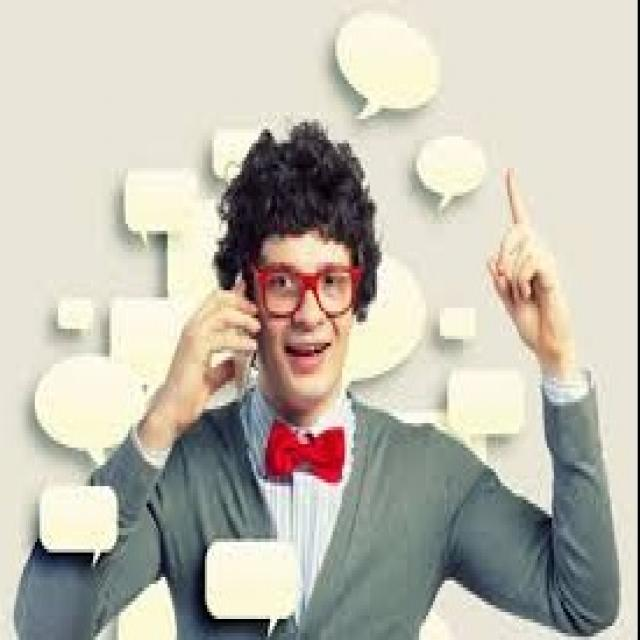phone: (193, 227, 307, 441)
